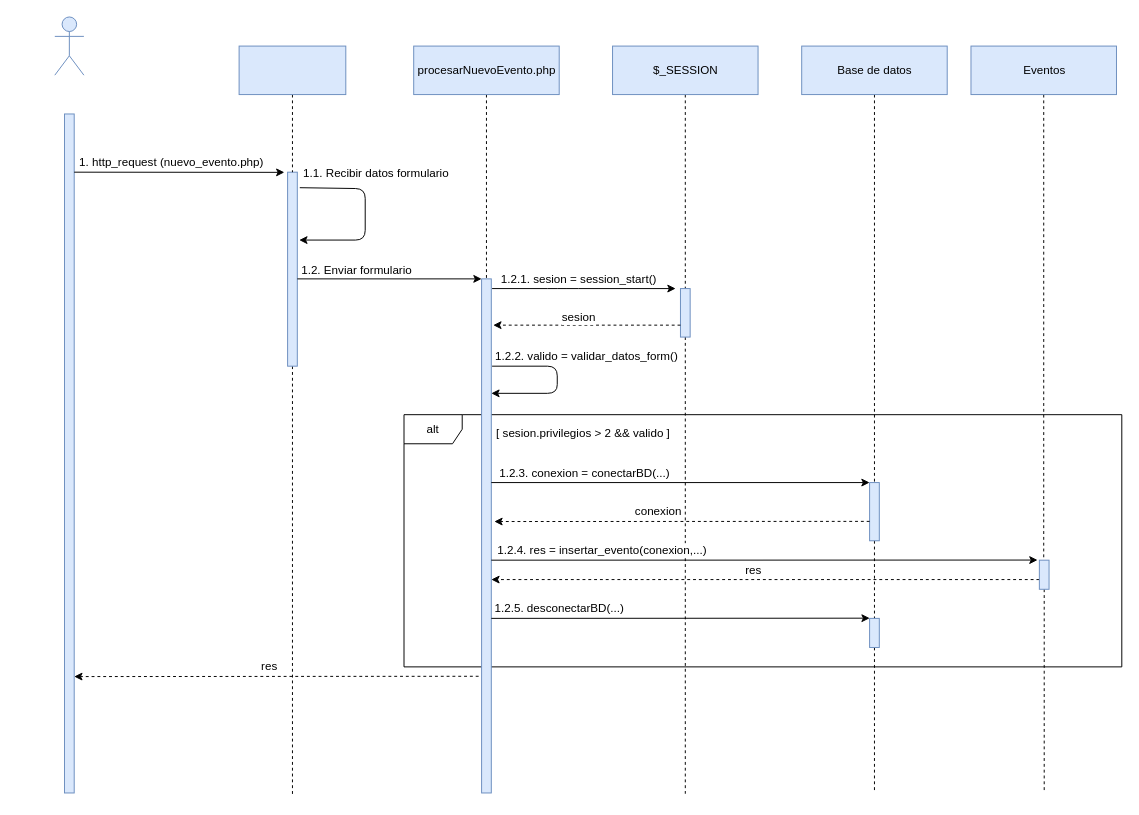
Some shapes in this 1139 by 815 pixel diagram are drawn without their labels. The centre of each missing label's shape, as x and y in pixels:
"Gestor/superusuario" goes at point 69,45.
"nuevo_evento.php" goes at point 292,70.
